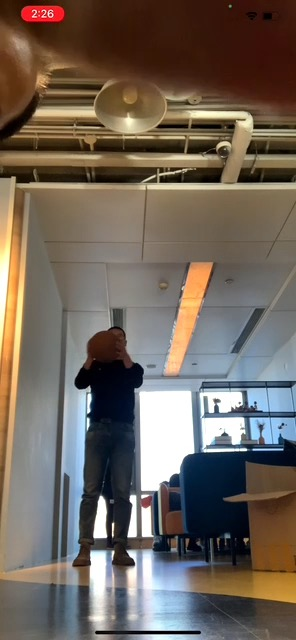ball: (89, 331, 122, 362)
